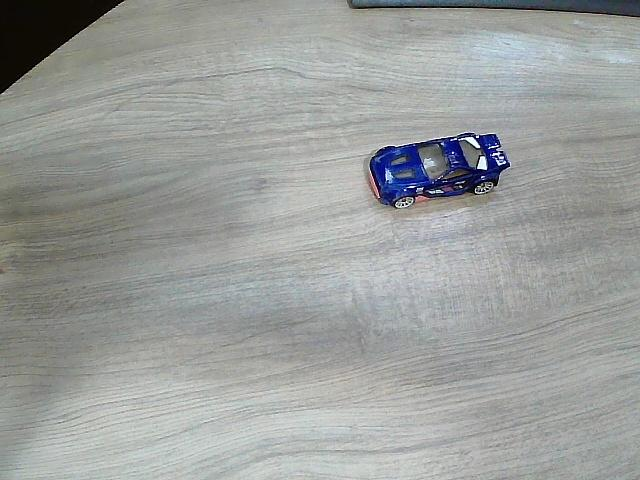Carro: (367, 133, 511, 209)
